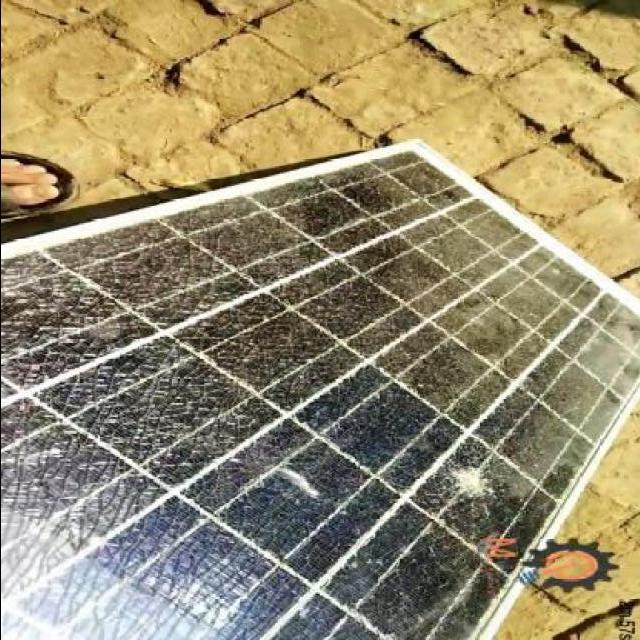cracked: (0, 160, 636, 636)
